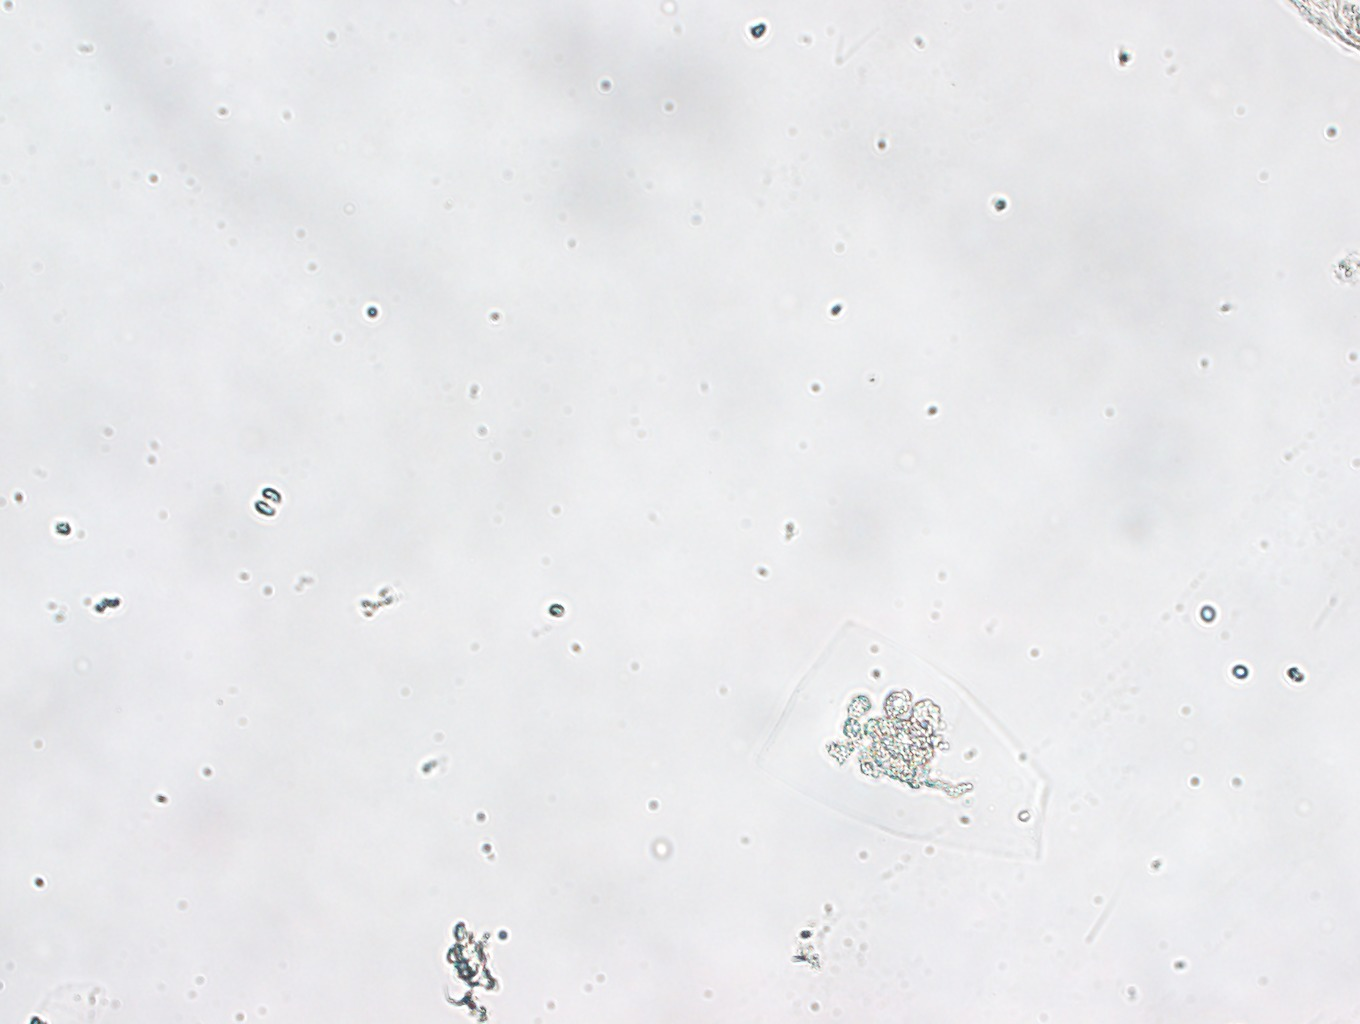helicotheca: (759, 618, 1047, 861)
